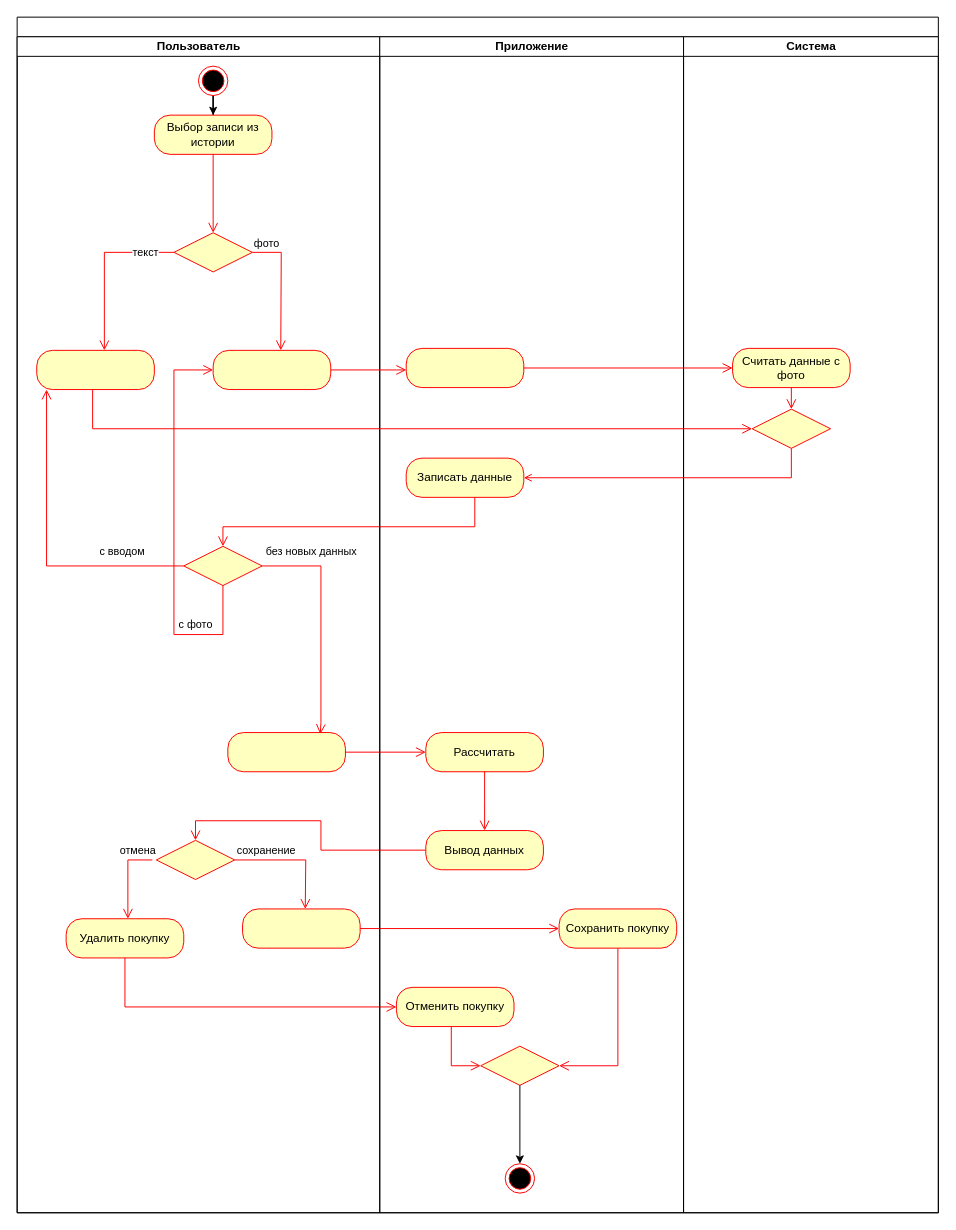
The diagram is 956 pixels wide and 1230 high, and some of its shapes have lost their labels. Here are the shapes that lost their labels. From the top down, the centre of each, then its label:
pixel 95 369: Добавить товар
pixel 271 369: Добавить фото
pixel 464 367: Отправить фото на обработку
pixel 286 752: Выбрать условия
pixel 301 928: Закрыть покупку
